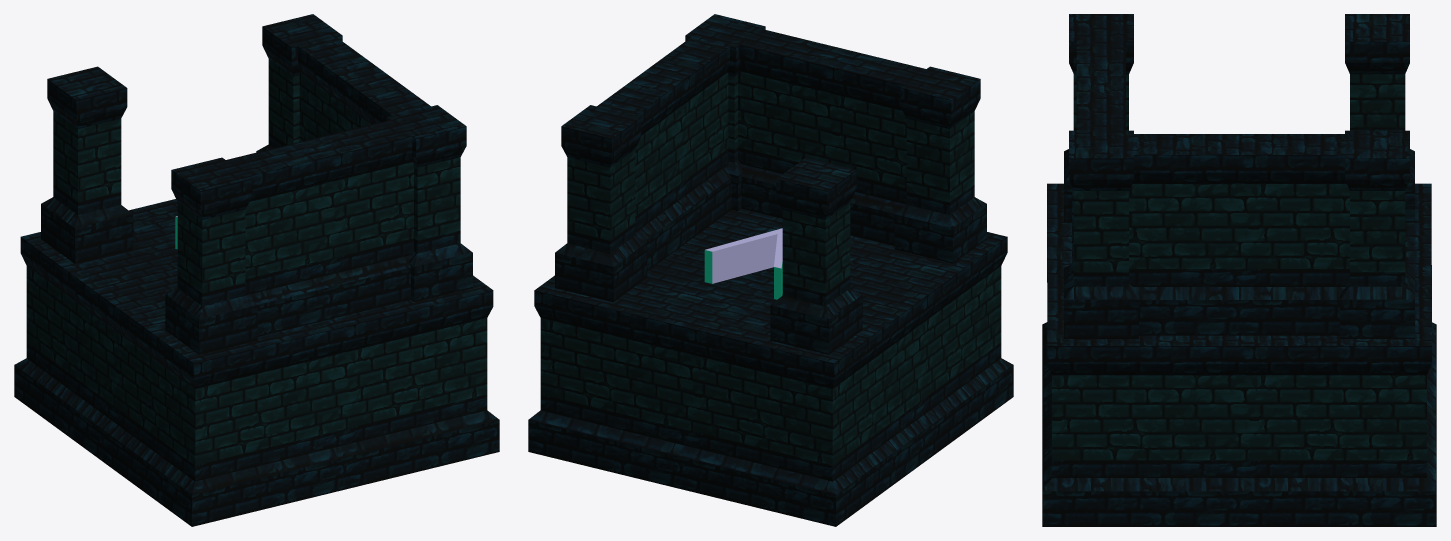
Rendered from debug-corner-right.glb.
3 renders of one model, left to right at view 1: azimuth 30°, elevation 25°; view 2: azimuth 150°, elevation 25°; view 3: azimuth 270°, elevation 25°, orthographic. The views are drawn at different scales.
Visible parts, largest first — view 1: mergedBlocks(Clone); view 2: mergedBlocks(Clone); view 3: mergedBlocks(Clone).
Part boxes in pixels (box(x1,y1,x2,y2)): mergedBlocks(Clone): box(14, 14, 499, 526); mergedBlocks(Clone): box(528, 14, 1013, 526); mergedBlocks(Clone): box(1042, 14, 1436, 526).
Size of the model in its own units: 2 by 2 by 2.
4 materials, 2 textured.
